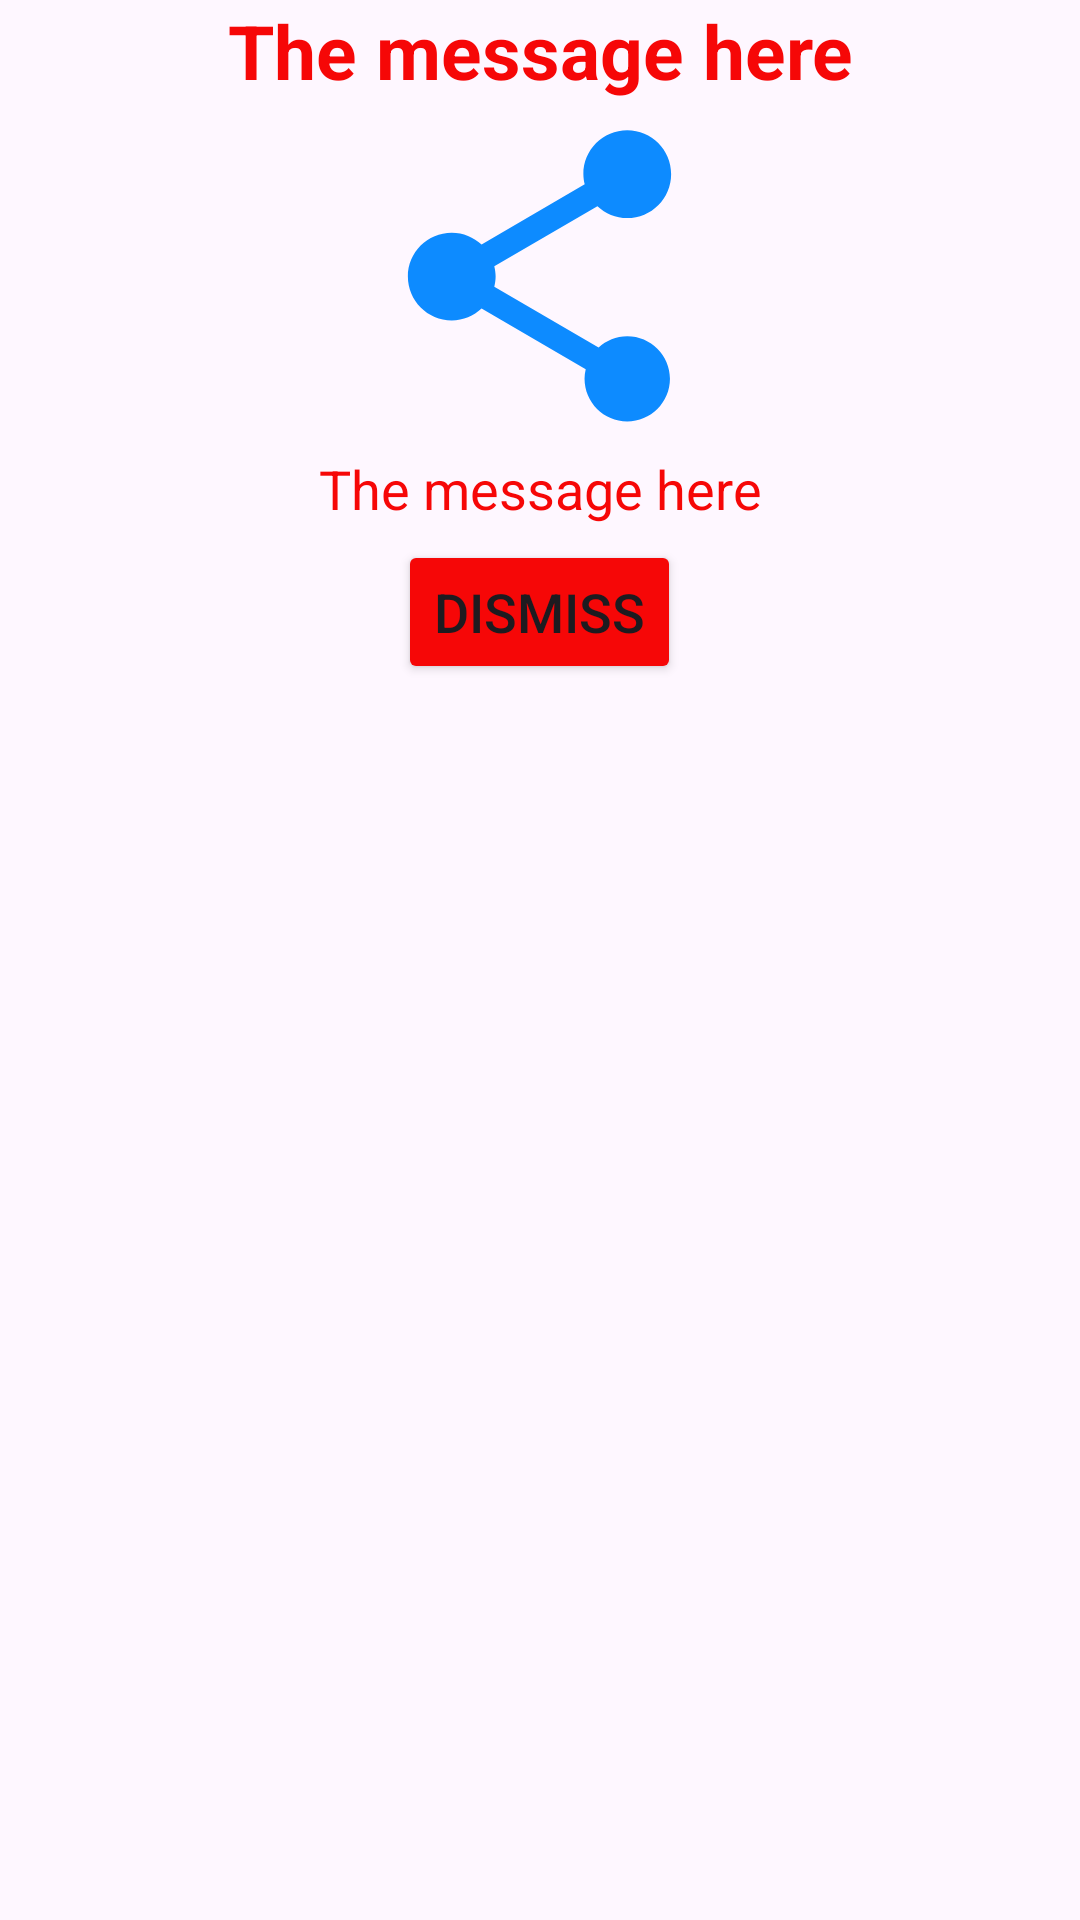

Icons on this 1080px×1920px Android screen, each with the point to tap as (x=x, y=y):
share: (x=539, y=276)
